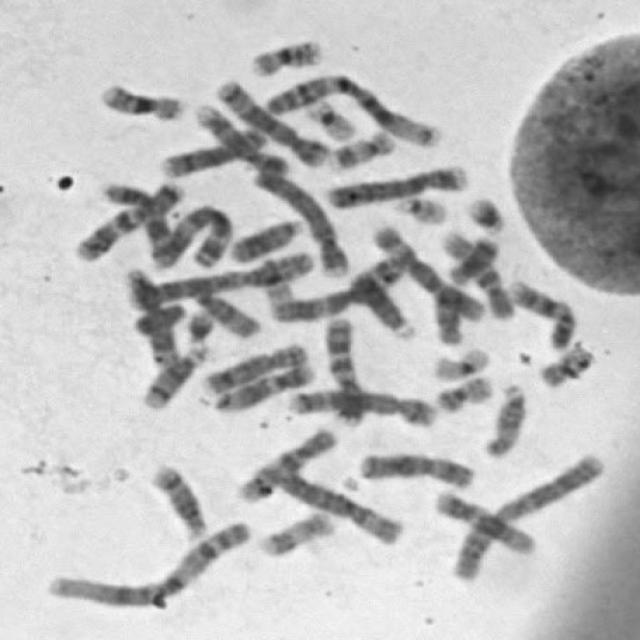A1: (39, 514, 256, 610), (258, 65, 446, 150)
A2: (445, 447, 610, 585), (120, 244, 318, 310)
A3: (266, 250, 409, 324), (145, 198, 237, 272)
B4: (249, 160, 355, 280), (318, 158, 472, 211)
B5: (208, 73, 331, 168), (282, 381, 444, 429)
C10: (230, 420, 341, 504), (434, 223, 519, 322)
C11: (91, 176, 178, 264), (116, 262, 180, 371)
C12: (429, 484, 542, 558), (208, 357, 318, 414)
C6: (364, 216, 491, 324), (264, 461, 407, 546)
C7: (67, 174, 188, 264), (319, 309, 369, 428)
C8: (198, 337, 313, 395), (156, 121, 272, 178)
C9: (188, 97, 291, 176), (501, 273, 580, 352)
D13: (344, 267, 418, 341), (225, 212, 310, 265)
D14: (135, 339, 212, 412), (143, 457, 209, 540)
D15: (187, 280, 265, 340), (476, 377, 528, 459)
E16: (94, 75, 190, 122), (244, 32, 326, 78)
E17: (253, 504, 338, 559), (324, 124, 399, 172)
E18: (444, 237, 508, 284), (424, 291, 470, 354)
F19: (298, 91, 360, 142), (425, 341, 493, 383)
F20: (532, 340, 596, 390), (428, 369, 497, 413)
G21: (459, 190, 508, 234), (180, 303, 216, 348)
G22: (251, 252, 298, 307), (388, 188, 450, 226)
X: (351, 446, 478, 490)
Y: (125, 297, 188, 338)
